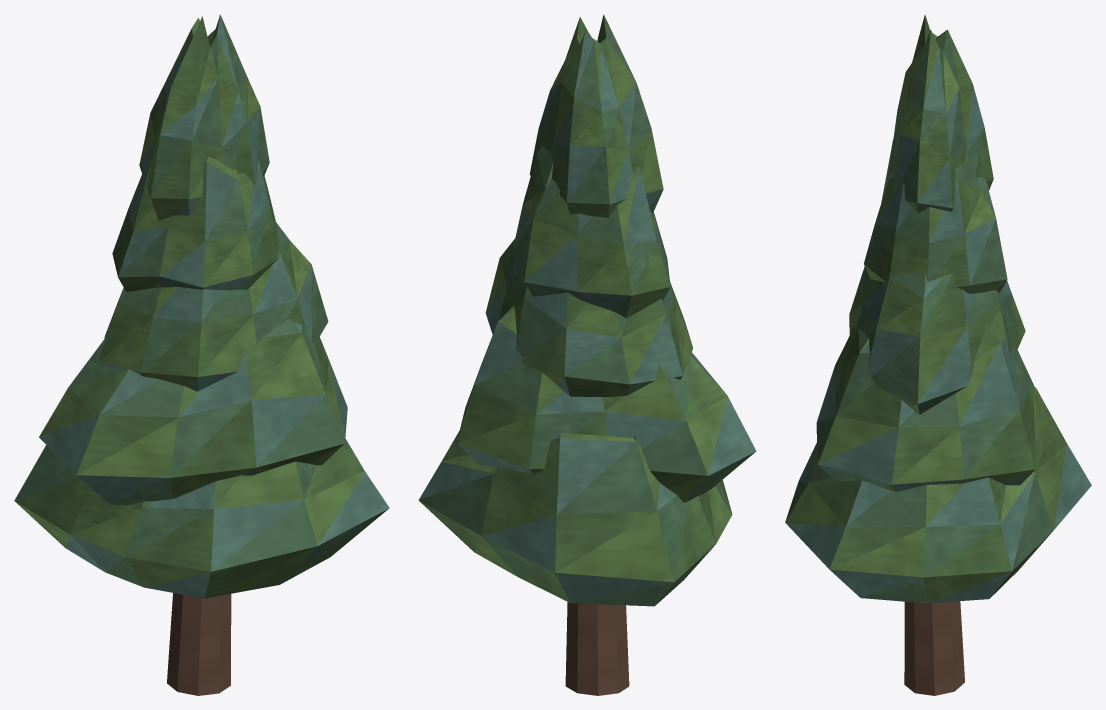
The model's file is tree_spruce_02.fbx.
The picture shows the model from 3 angles, left to right: view 1: azimuth 30°, elevation 25°; view 2: azimuth 150°, elevation 25°; view 3: azimuth 270°, elevation 25°; orthographic projection.
Visible parts, largest first — view 1: tree_spruce_02; view 2: tree_spruce_02; view 3: tree_spruce_02.
Boxes of the visible parts, <box> form: tree_spruce_02: <box>14,14,389,695</box>; tree_spruce_02: <box>418,14,756,695</box>; tree_spruce_02: <box>785,14,1091,695</box>.
Bounding box in the file's own units: 507 × 1105 × 460.
Materials: 1 (1 with a texture image).
